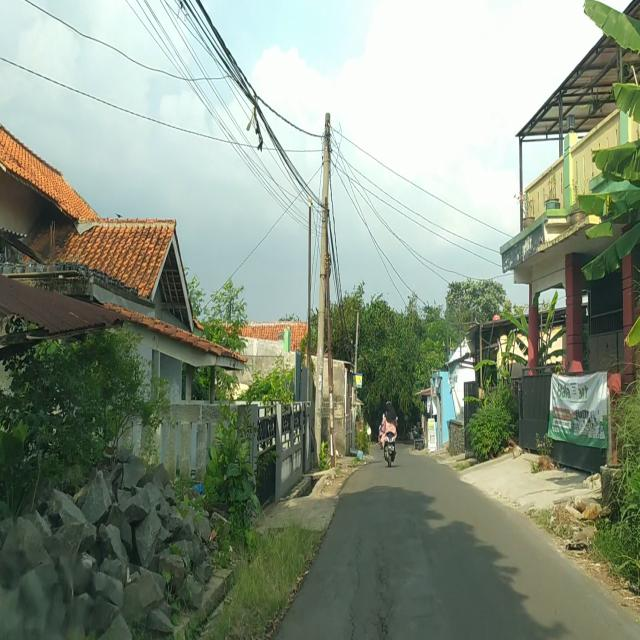Drain Hole: (352, 547, 396, 640)
